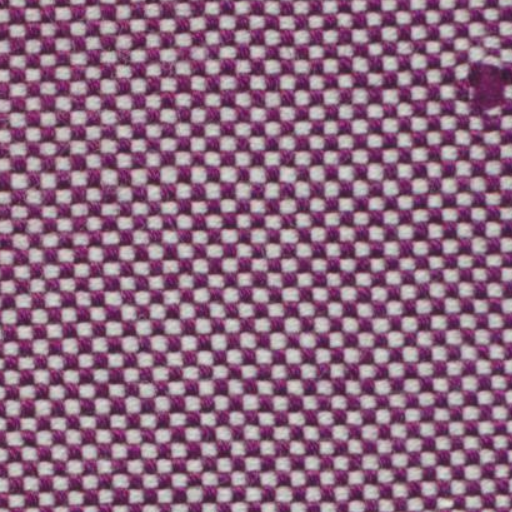MianQiu: (449, 40, 504, 126)
